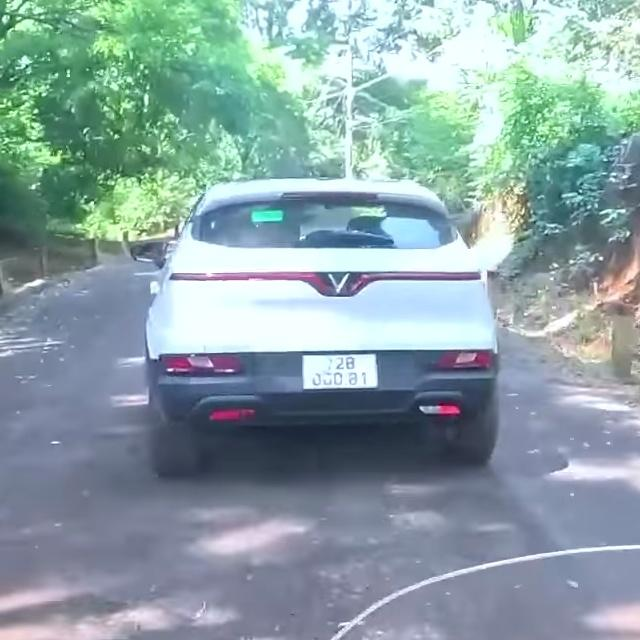license-plate: (302, 354, 378, 390)
